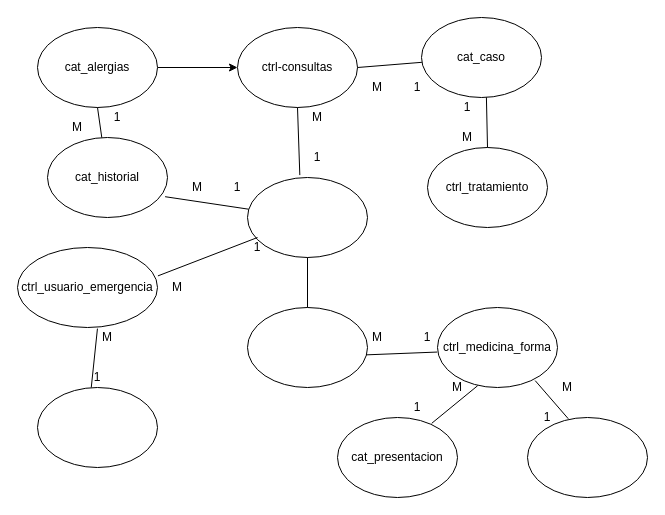
Image size: 665x515. Some labels were removed from this diagram. Here are the shapes that lost their labels. From the top down, the box of each, then its label:
(246, 176, 368, 258): cat_usuario
(246, 306, 368, 388): ctrl_almacen_doctor
(36, 386, 158, 468): cat_emergencia
(526, 416, 648, 498): cat_medicamento
